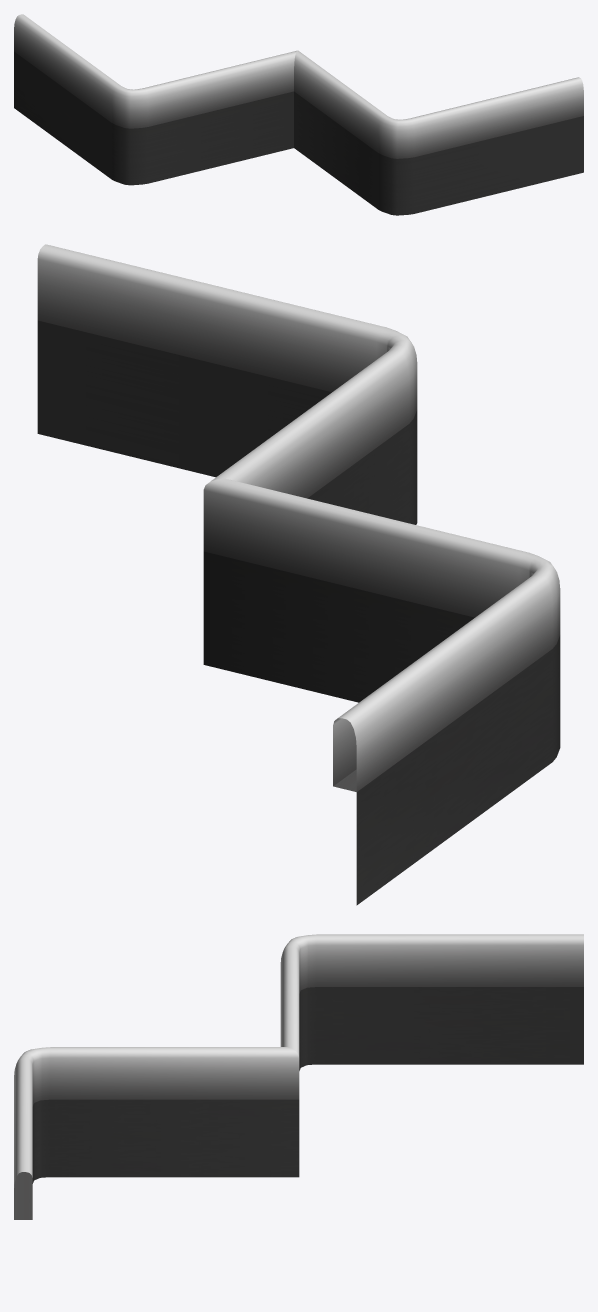
3 renders of one model, top to bottom at view 1: azimuth 30°, elevation 25°; view 2: azimuth 150°, elevation 25°; view 3: azimuth 270°, elevation 25°, orthographic. The views are drawn at different scales.
Visible parts, largest first — view 1: PLANE, PieceType5; view 2: PieceType5, PLANE; view 3: PLANE, PieceType5.
Boxes of the visible parts, <box> form: PLANE: <box>14,51,583,215</box>; PieceType5: <box>14,14,583,158</box>; PieceType5: <box>37,244,560,792</box>; PLANE: <box>37,320,560,905</box>; PLANE: <box>32,987,583,1183</box>; PieceType5: <box>14,934,583,1219</box>.
Bounding box in the file's own units: 214 × 51.97 × 214.
